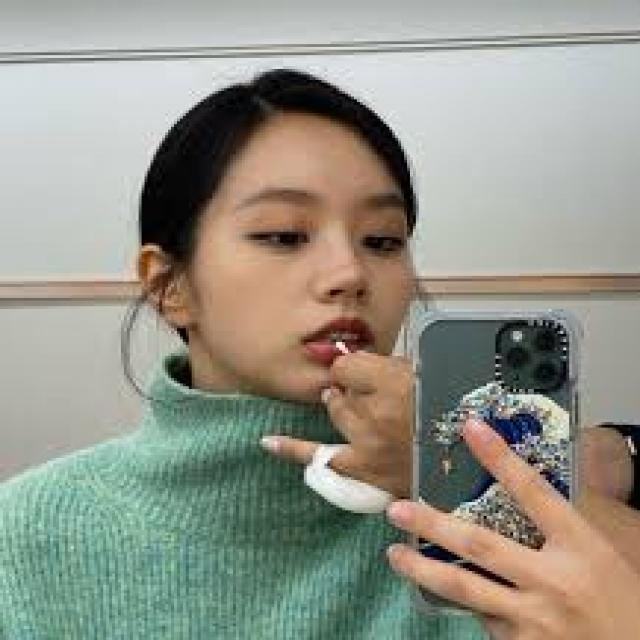Phone: (414, 313, 578, 613), (406, 310, 547, 530)
